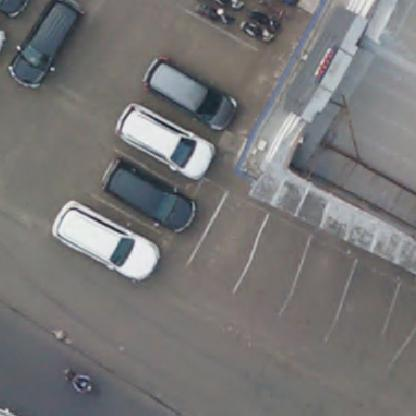car: (58, 202, 159, 280), (7, 0, 86, 92), (121, 101, 214, 179), (146, 57, 238, 133), (107, 162, 196, 232), (0, 0, 33, 17)
motorcycle: (63, 360, 100, 398), (195, 0, 229, 27), (242, 23, 272, 50), (204, 0, 244, 13)
